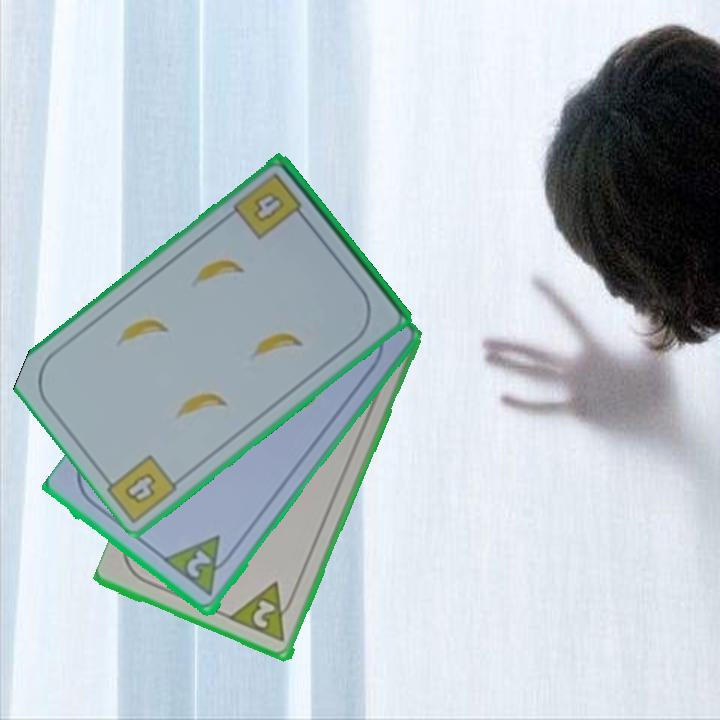2p: (161, 532, 239, 601), (249, 596, 279, 632)
4b: (230, 169, 311, 243), (120, 469, 159, 508)
